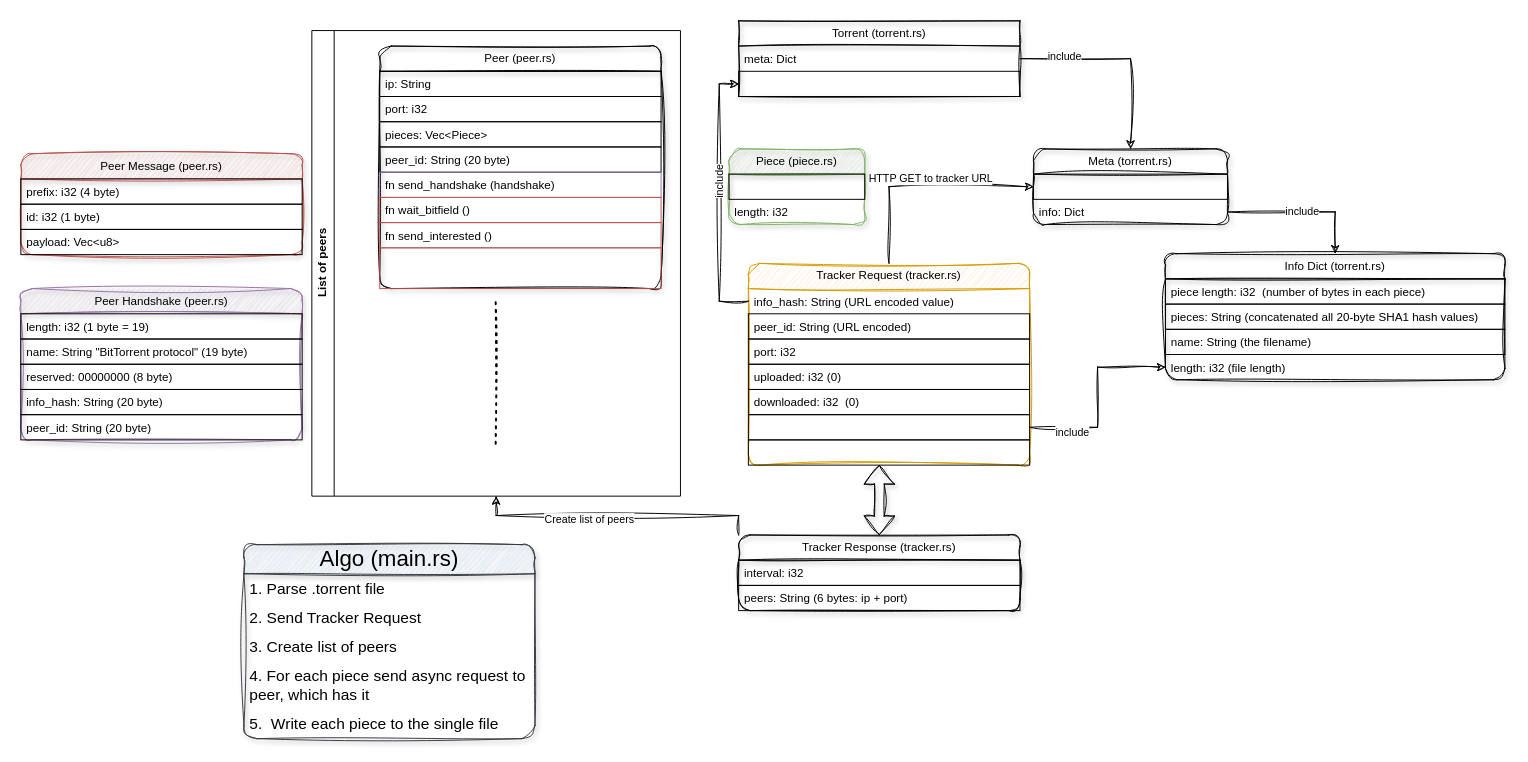
The diagram is 1528 pixels wide and 762 high, and some of its shapes have lost their labels. Here are the shapes that lost their labels. From the top down, the centre of each, then its label:
(x=879, y=83): info_hash: Vec<u8> (20 byte SHA1 of Info Dict)
(x=796, y=186): hash: Vec<u8>
(x=1130, y=186): announce: String (Tracker URL)
(x=520, y=268): fn piece_request () -> Vec<u8> (For each piece from list)
(x=888, y=427): left: i32 (file length)
(x=888, y=452): compact: i32 (1)
